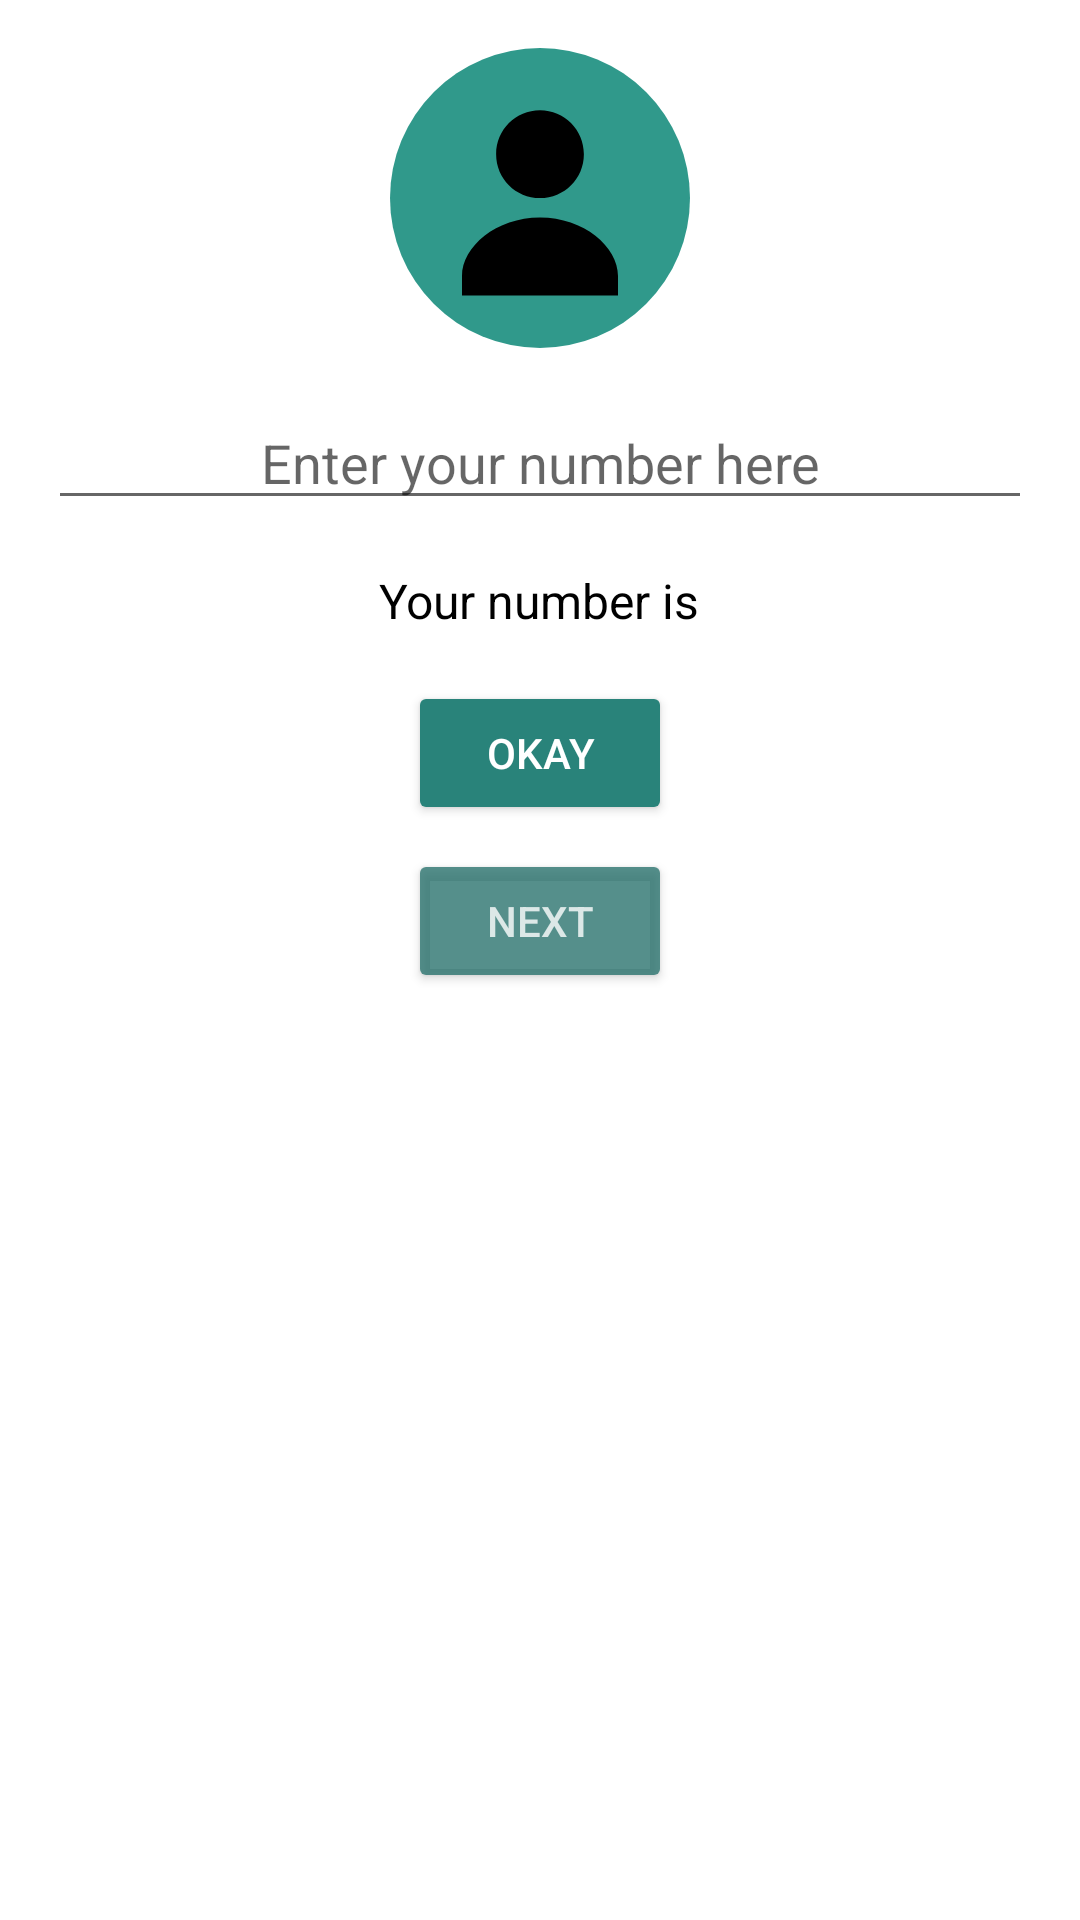

Where to tap for icons on this 1080 × 1920 app screen, as (x,y):
user profile: (540,203)
